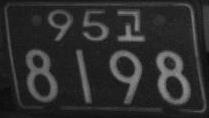1: (67, 49, 98, 104)
5: (81, 8, 109, 42)
8: (154, 49, 191, 106), (23, 48, 58, 103)
9: (108, 49, 143, 105), (47, 8, 73, 42)
고: (116, 8, 146, 41)
